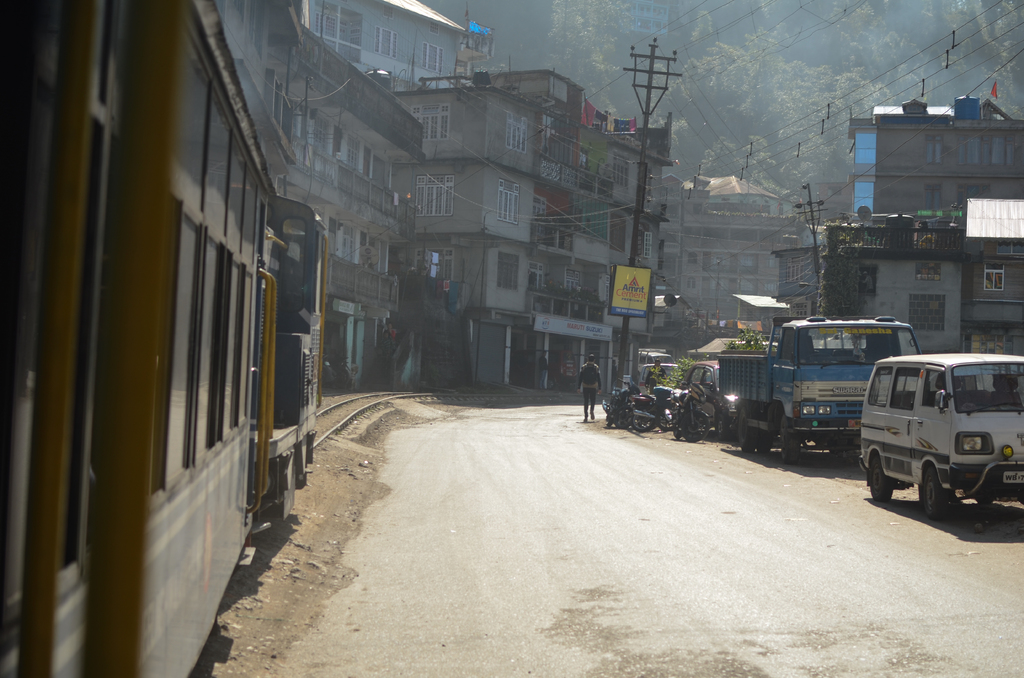car: (859, 343, 1024, 529)
truck: (714, 307, 923, 473)
